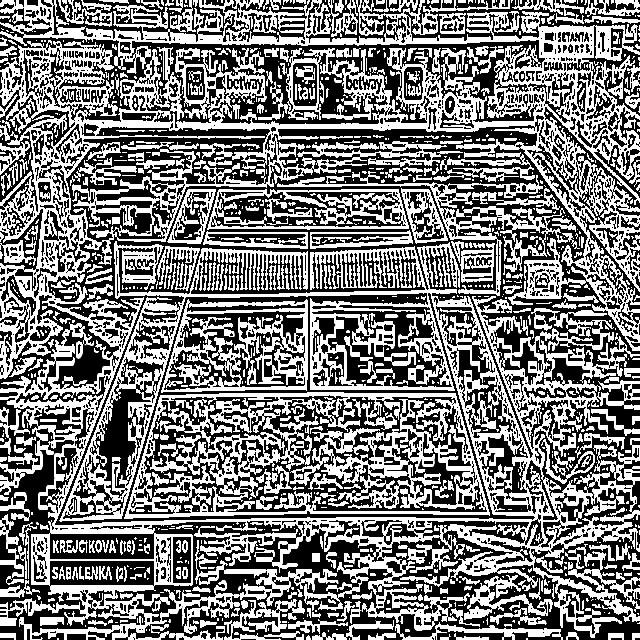left side: (56, 187, 217, 523), (399, 186, 556, 518)
player: (508, 410, 569, 563), (264, 124, 282, 192)
